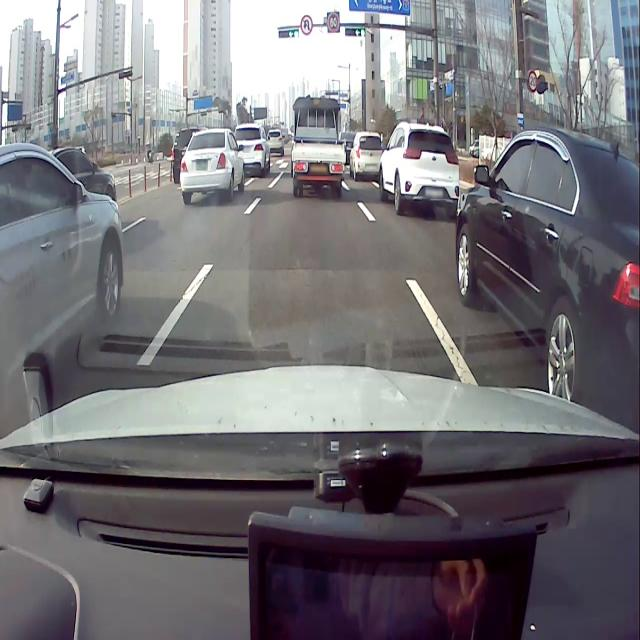Green Light: (294, 30, 299, 38), (361, 28, 365, 36)
